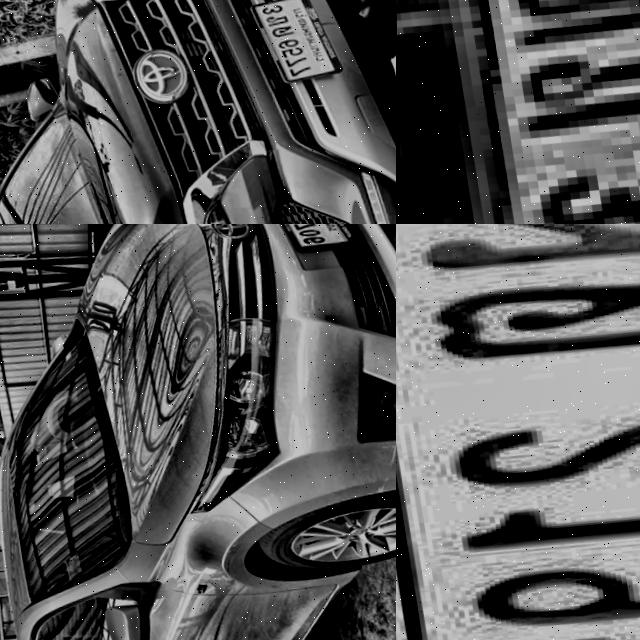license-plate: (396, 224, 640, 640), (396, 0, 640, 224), (244, 0, 345, 90), (254, 224, 368, 262)
